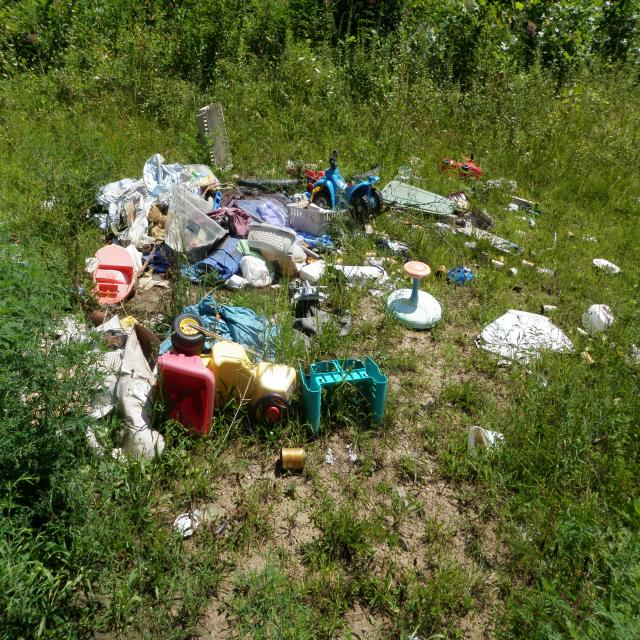garbage: (66, 279, 400, 463), (92, 149, 385, 278)
